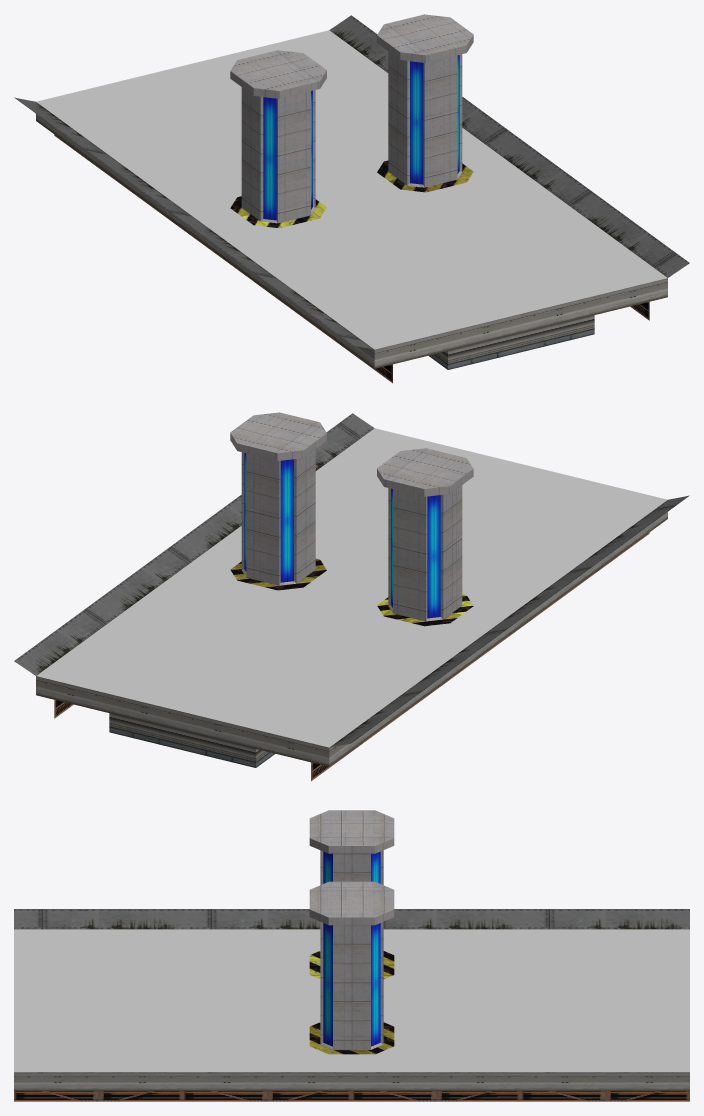
The model's file is StrColumn2.fbx.
The picture shows the model from 3 angles, top to bottom: view 1: azimuth 30°, elevation 25°; view 2: azimuth 150°, elevation 25°; view 3: azimuth 270°, elevation 25°; orthographic projection.
Visible parts, largest first — view 1: Empty_Mesh; view 2: Empty_Mesh; view 3: Empty_Mesh.
Boxes of the visible parts, left/top/right/bottom form: Empty_Mesh: left=14, top=14, right=689, bottom=383; Empty_Mesh: left=14, top=412, right=689, bottom=781; Empty_Mesh: left=14, top=810, right=689, bottom=1101.
Size of the model in its own units: 18.4 by 9.15 by 32.
